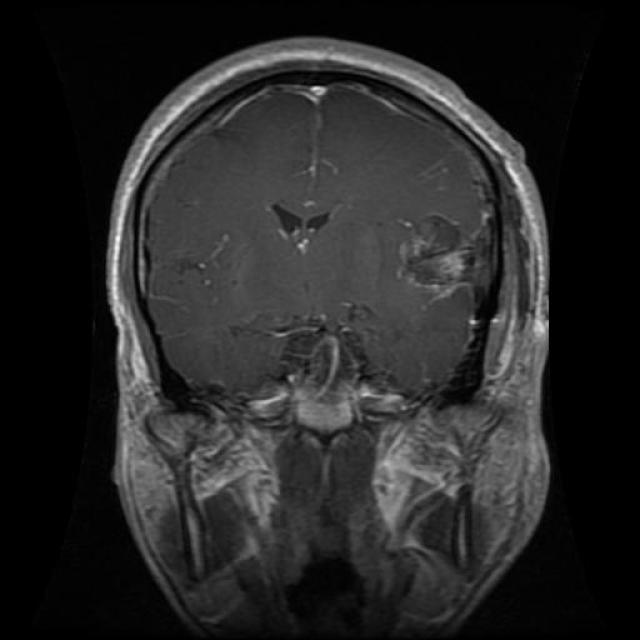glioma: (388, 208, 476, 302)
